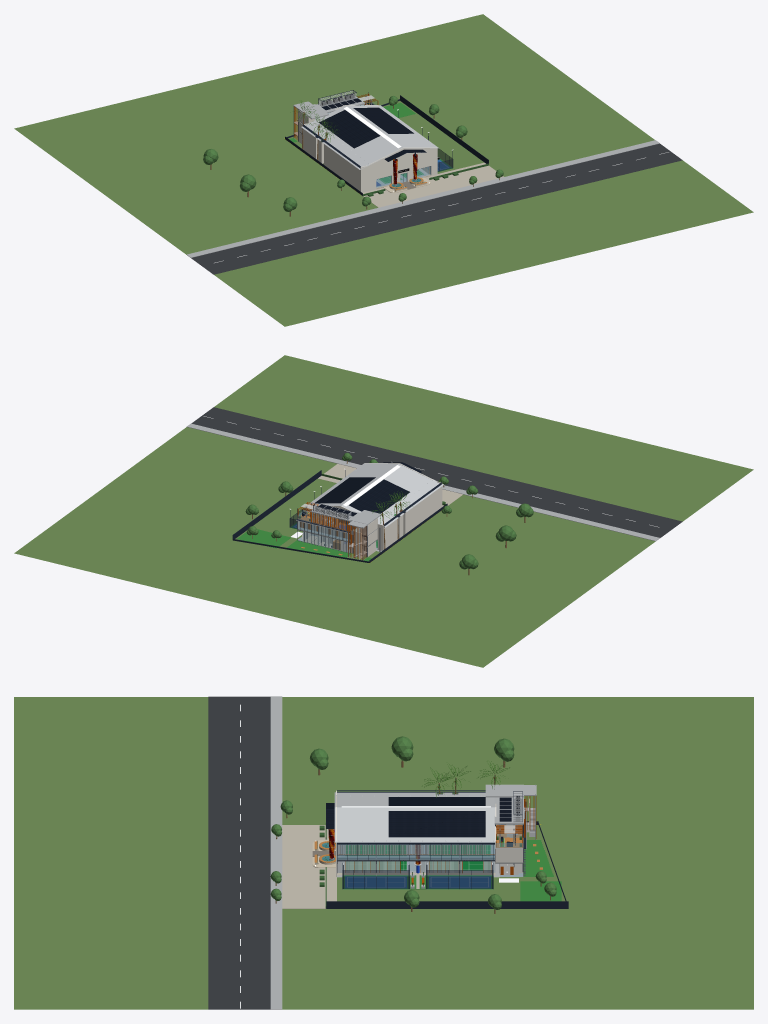
Rendered from MyPlace_Master_vR48.dae.
The picture shows the model from 3 angles, top to bottom: view 1: azimuth 30°, elevation 25°; view 2: azimuth 150°, elevation 25°; view 3: azimuth 270°, elevation 25°; orthographic projection. The views are drawn at different scales.
Parts seen in each view (by area): view 1: site__grass, site__asphalt, hall_shell__plaster, hall_roof__roofSheet, site__concrete, hall_roof__solar, site__paving, trees__treeCrown, fences__charcoal; view 2: site__grass, site__asphalt, hall_roof__roofSheet, site__concrete, hall_roof__solar, hall_shell__plaster, trees__treeCrown, fences__charcoal, outdoor__turf, site__paving, rear_roof__concrete; view 3: site__grass, site__asphalt, hall_roof__roofSheet, site__paving, site__concrete, hall_roof__solar, hall_shell__glass, outdoor__mat_1f2937, trees__treeCrown, hall_interior__court, fences__charcoal, outdoor__turf (+11 smaller).
Part boxes in pixels (box(x1,y1,x2,y2)): site__grass: box(14, 14, 753, 326); site__asphalt: box(191, 143, 682, 274); hall_shell__plaster: box(302, 105, 437, 192); hall_roof__roofSheet: box(301, 105, 438, 169); site__concrete: box(187, 140, 659, 257); hall_roof__solar: box(319, 107, 413, 148); site__paving: box(362, 162, 503, 207); trees__treeCrown: box(203, 96, 503, 211); fences__charcoal: box(285, 95, 488, 195); site__grass: box(14, 355, 753, 667); site__asphalt: box(191, 407, 682, 537); hall_roof__roofSheet: box(308, 463, 443, 527); site__concrete: box(186, 423, 659, 551); hall_roof__solar: box(314, 477, 409, 513); hall_shell__plaster: box(308, 463, 442, 550); trees__treeCrown: box(245, 452, 533, 569); fences__charcoal: box(232, 470, 447, 562); outdoor__turf: box(237, 529, 371, 561); site__paving: box(318, 464, 462, 506); rear_roof__concrete: box(311, 503, 381, 528); site__grass: box(14, 697, 753, 1009); site__asphalt: box(208, 696, 270, 1009); hall_roof__roofSheet: box(334, 792, 495, 842); site__paving: box(282, 825, 495, 908); site__concrete: box(270, 696, 499, 1009); hall_roof__solar: box(388, 797, 485, 837); hall_shell__glass: box(337, 844, 494, 859); outdoor__mat_1f2937: box(342, 870, 493, 888); trees__treeCrown: box(270, 736, 556, 909); hall_interior__court: box(345, 845, 490, 870); fences__charcoal: box(326, 821, 568, 908); outdoor__turf: box(410, 826, 561, 901).
Size of the model in its own units: 160 by 160 by 16.22.
Materials: 73 (6 with a texture image).
